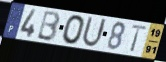4: (18, 8, 38, 39)
8: (106, 21, 126, 52)
B: (35, 10, 62, 43)
O: (61, 14, 86, 46)
T: (129, 24, 149, 54)
U: (81, 15, 108, 49)
